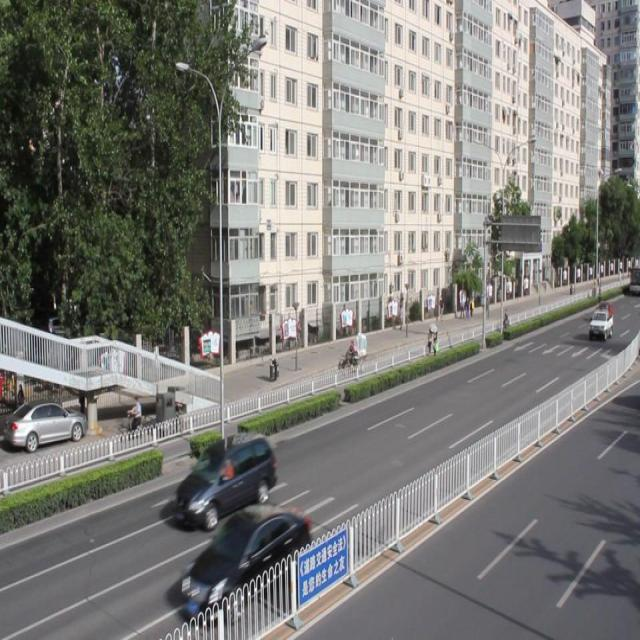car: (179, 504, 310, 618), (174, 432, 275, 526)
